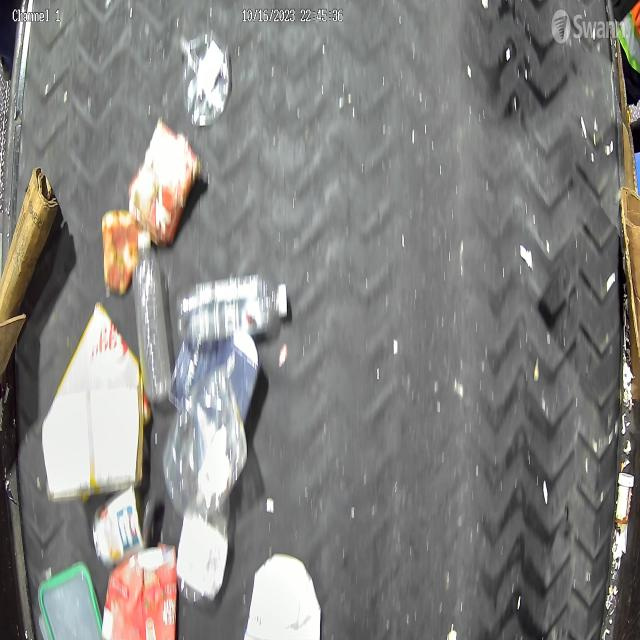can: (92, 486, 144, 567), (102, 207, 144, 293)
milk_jug: (244, 553, 322, 639)
plastic_bottle: (177, 462, 236, 606), (186, 274, 290, 340), (132, 247, 172, 402)
